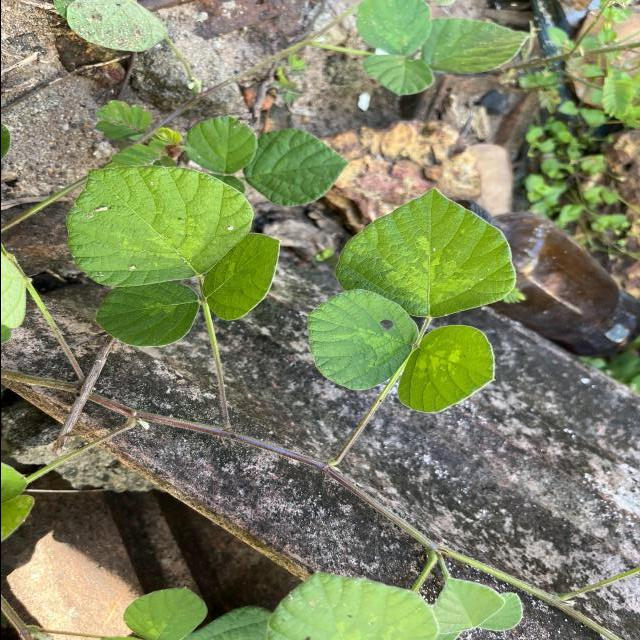Pseudarthria viscida: (304, 187, 518, 415), (62, 164, 282, 349)
